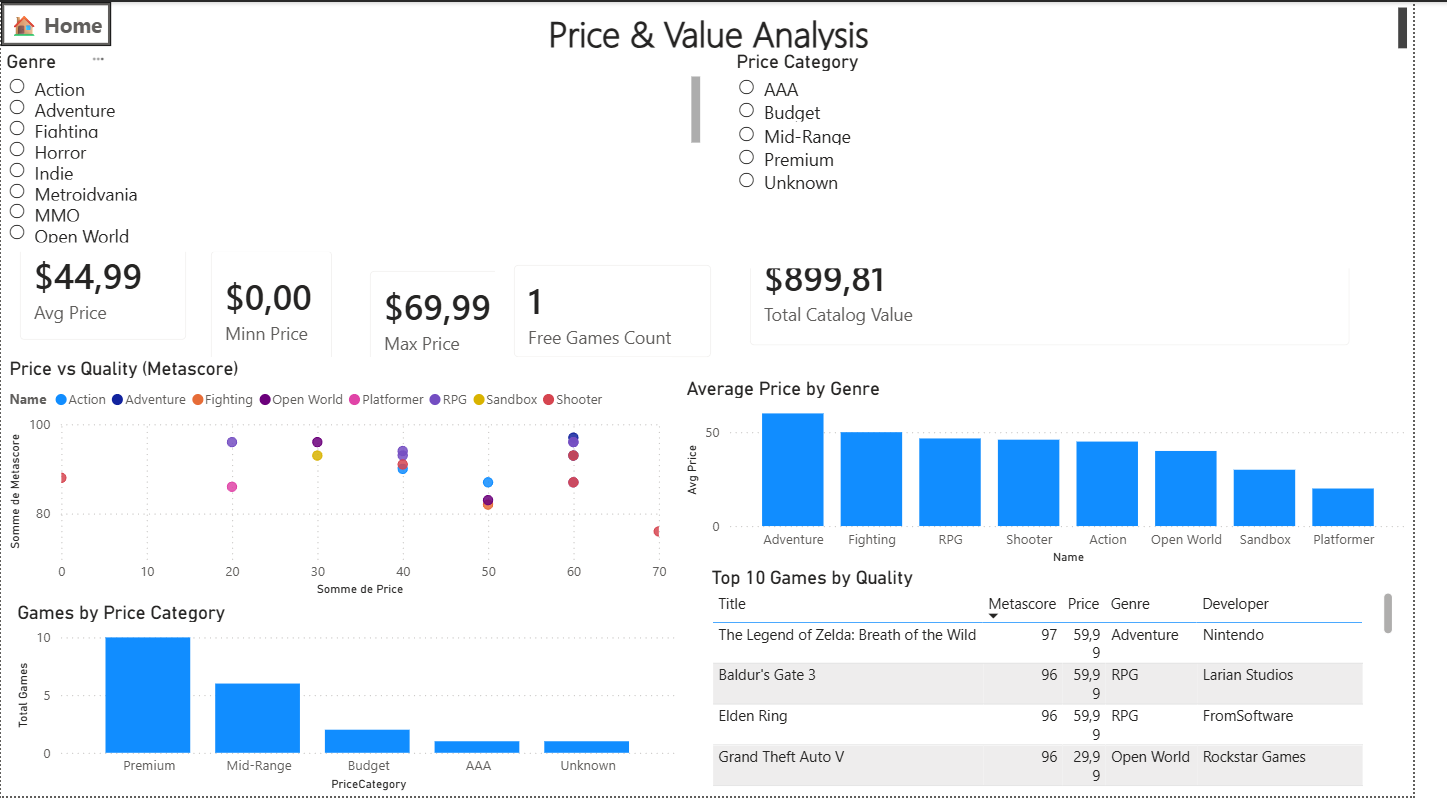

What the dashboard file says about the page in this screenshot:
{"tool":"powerbi","page":{"name":"Price Analysis","canvas":[1280,720],"ordinal":2},"visuals":[{"type":"textbox","box":[10,0,1270.4,49.9],"z":0},{"type":"cardVisual","fields":{"Data":["_Measures.Avg Price"]},"box":[0,190.3,185.3,133.1],"z":1000},{"type":"cardVisual","fields":{"Data":["_Measures.Minn Price"]},"box":[172.9,209,144.3,135.6],"z":2000},{"type":"cardVisual","fields":{"Data":["_Measures.Max Price"]},"box":[317.2,226.4,155.5,118.2],"z":3000},{"type":"cardVisual","fields":{"Data":["_Measures.Free Games Count"]},"box":[447.8,221.4,214,118.2],"z":4000},{"type":"cardVisual","fields":{"Data":["_Measures.Total Catalog Value"]},"box":[661.8,190.3,578.4,138.1],"z":5000},{"type":"scatterChart","title":"Price vs Quality (Metascore)","fields":{"Category":["Games.Title"],"X":["Sum(Games.Price)"],"Y":["Sum(Games.Metascore)"],"Series":["Genres.Name"]},"box":[2.5,322.2,605.8,221.4],"z":6000},{"type":"columnChart","title":"Average Price by Genre","fields":{"Y":["_Measures.Avg Price"],"Category":["Genres.Name"]},"box":[617,339.6,663,174.2],"z":7000},{"type":"clusteredColumnChart","title":"Games by Price Category","fields":{"Category":["Games.PriceCategory"],"Y":["_Measures.Total Games"]},"box":[10,543.6,607.1,176.6],"z":8000},{"type":"tableEx","title":"Top 10 Games by Quality","fields":{"Values":["Games.Title","Sum(Games.Metascore)","Sum(Games.Price)","Genres.Name","Developers.Name"]},"box":[639,511,628,209],"z":9000},{"type":"listSlicer","title":"Genre","fields":{"Values":["Genres.Name"]},"box":[0,43.5,639.4,182.9],"z":10000},{"type":"listSlicer","title":"Price Category","fields":{"Values":["Games.PriceCategory"]},"box":[661.8,43.5,618.2,197.8],"z":11000},{"type":"actionButton","box":[0,0,100,40],"z":11001}]}

Visuals, with their boxes in screenshot pixels (x1, y1, x2, y2), scaled from the page's 1280x720 canvas onto the 1447x803 screenshot:
textbox: bbox=(11, 0, 1446, 56)
cardVisual - _Measures.Avg Price: bbox=(0, 212, 209, 361)
cardVisual - _Measures.Minn Price: bbox=(195, 233, 359, 384)
cardVisual - _Measures.Max Price: bbox=(359, 252, 534, 384)
cardVisual - _Measures.Free Games Count: bbox=(506, 247, 748, 379)
cardVisual - _Measures.Total Catalog Value: bbox=(748, 212, 1402, 366)
"Price vs Quality (Metascore)" scatterChart: bbox=(3, 359, 688, 606)
"Average Price by Genre" columnChart: bbox=(697, 379, 1446, 573)
"Games by Price Category" clusteredColumnChart: bbox=(11, 606, 698, 802)
"Top 10 Games by Quality" tableEx: bbox=(722, 570, 1432, 802)
"Genre" listSlicer: bbox=(0, 49, 723, 252)
"Price Category" listSlicer: bbox=(748, 49, 1446, 269)
actionButton: bbox=(0, 0, 113, 45)
